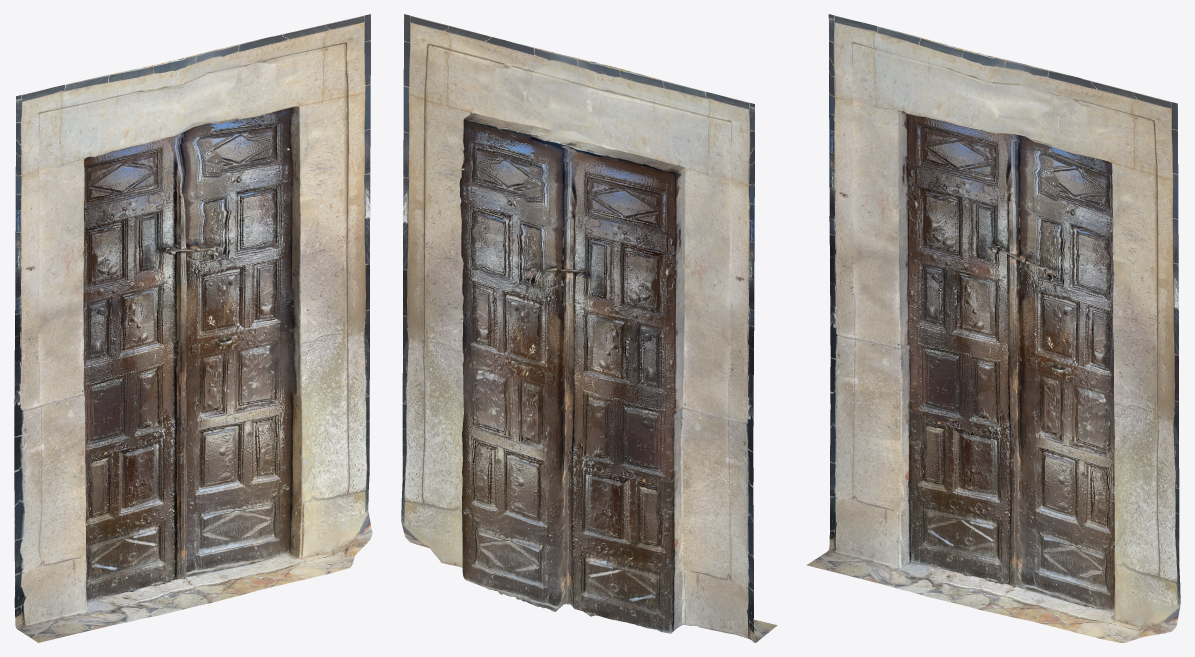
Rendered from wooden_door_with_tilework__zawiya_of_sid_-_opt.glb.
The picture shows the model from 3 angles, left to right: view 1: azimuth 30°, elevation 25°; view 2: azimuth 150°, elevation 25°; view 3: azimuth 330°, elevation 25°; orthographic projection.
Visible parts, largest first — view 1: Object_3; view 2: Object_3; view 3: Object_3.
Part boxes in pixels (x1,y1,x2,y2): Object_3: (14,14,372,642); Object_3: (401,14,777,642); Object_3: (806,14,1180,642).
Bounding box in the file's own units: 1.61 × 2.35 × 0.2968.
1 material, 1 textured.
